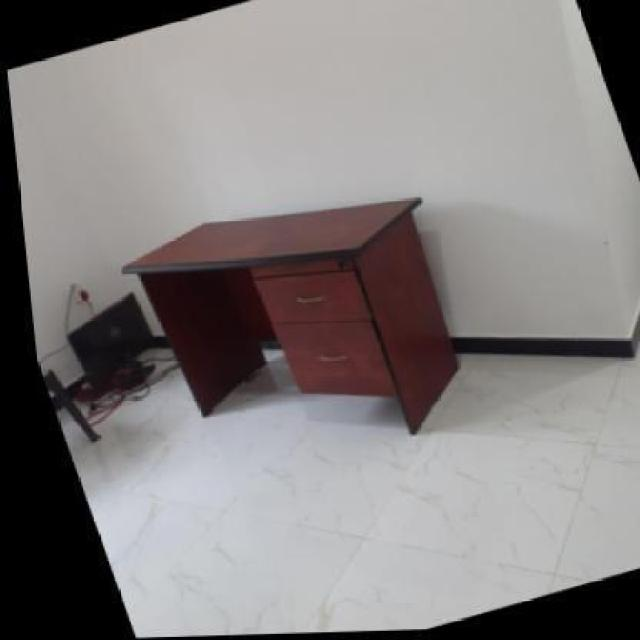tables: (120, 196, 458, 436)
